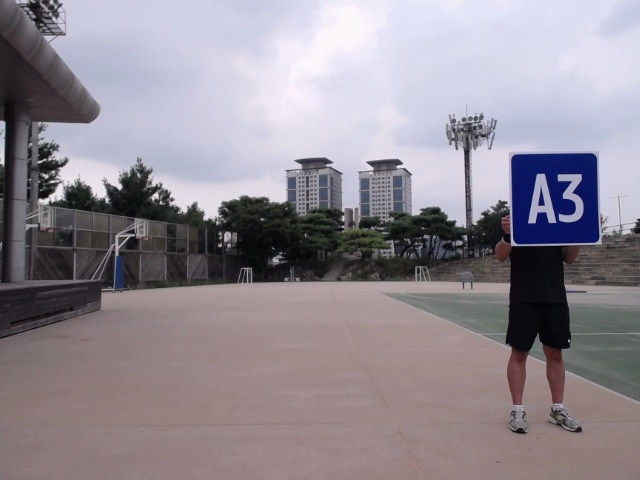delivery_a3: (509, 151, 601, 246)
